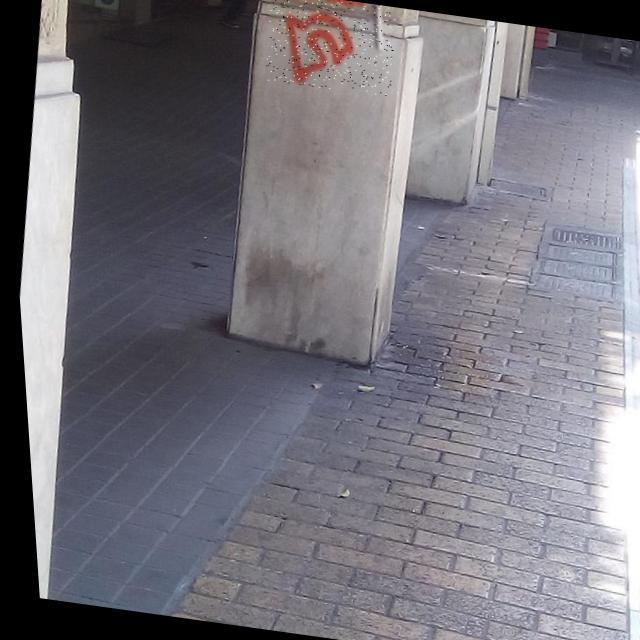-: (260, 0, 401, 98)
